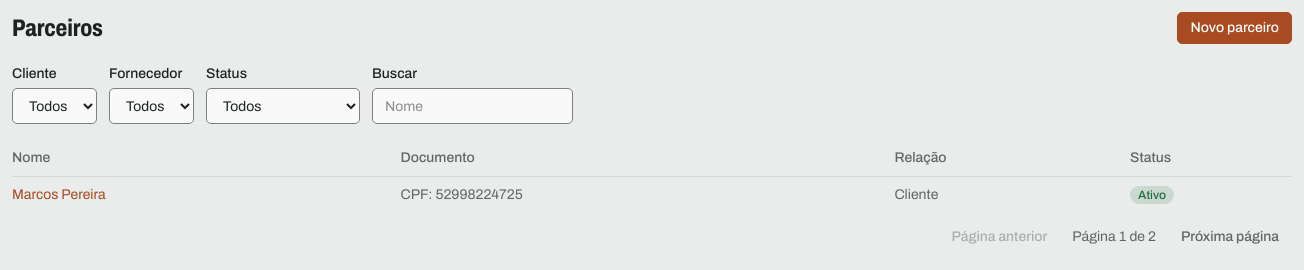
Test case: PartnersScreen › paginates the partner list
Expected: the link "Marcos Pereira" is shown, [12,187,106,202]
Expected: the button "Página anterior" is disabled, [938,221,1060,253]
Click the button "Próxima página": click(1230, 237) [1168,221,1292,253]
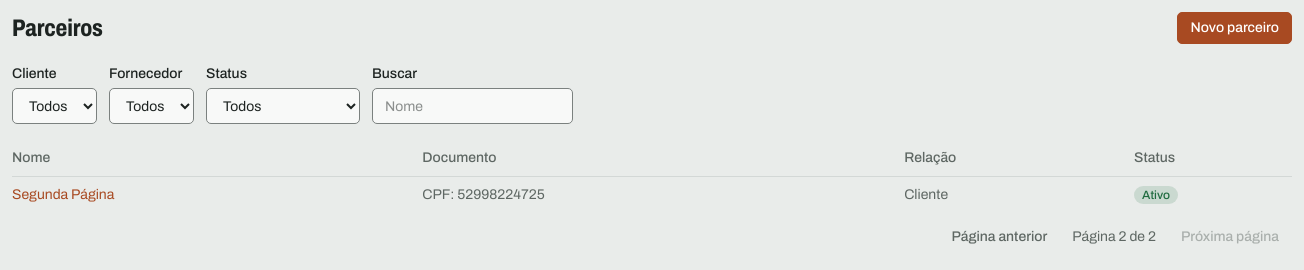
Now the link "Segunda Página" is shown, box [12,187,114,202]
